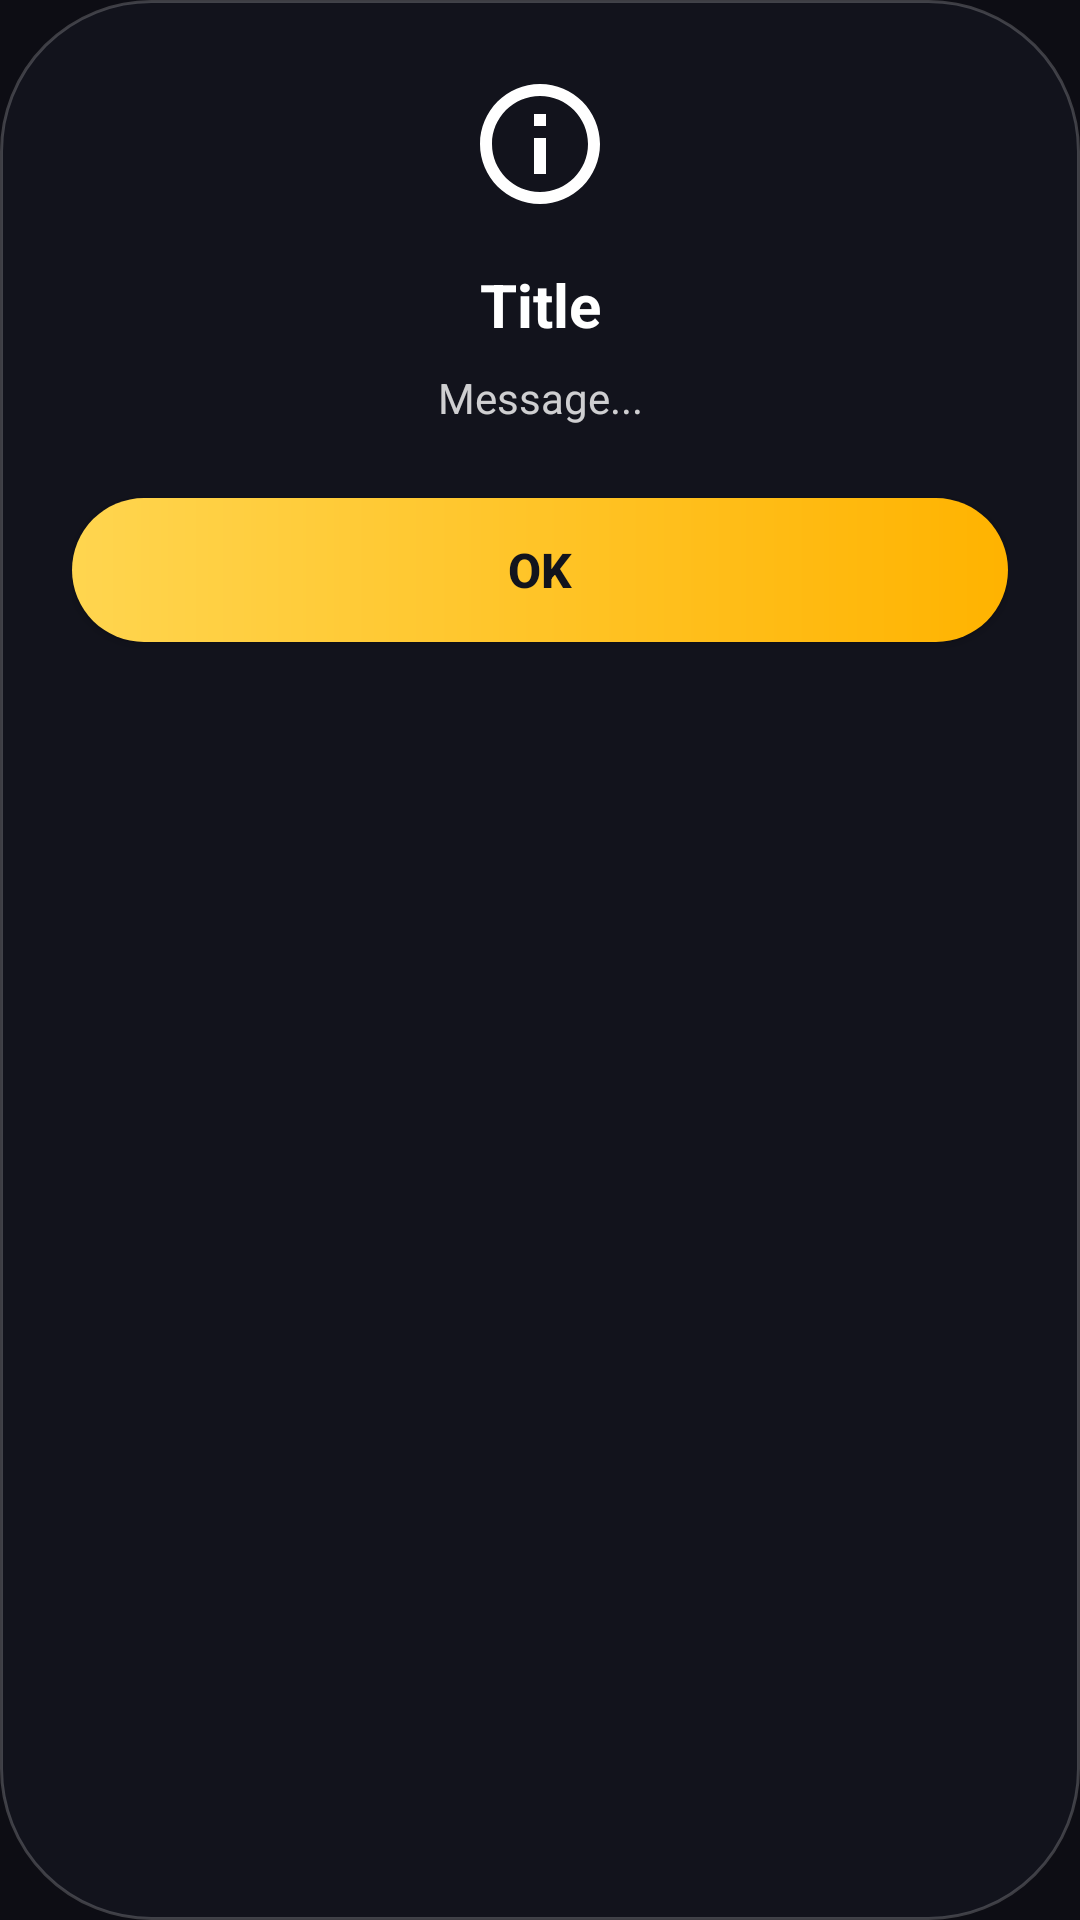

Icons on this 1080 x 1920 Android screen, each with the point to tap as point (x, y):
info: point (540, 144)
